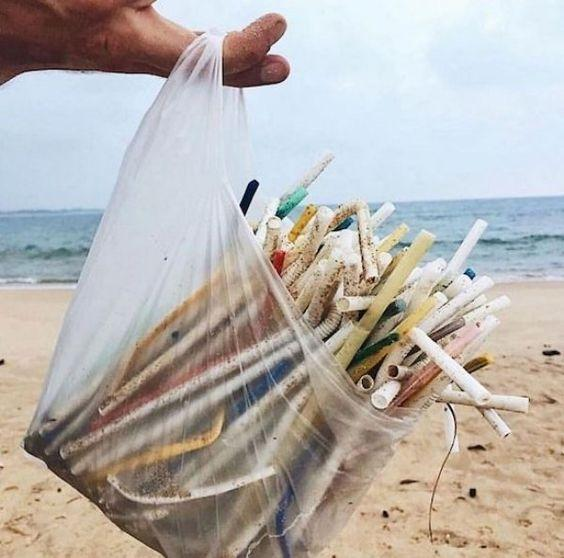LDPE: (25, 32, 389, 557)
